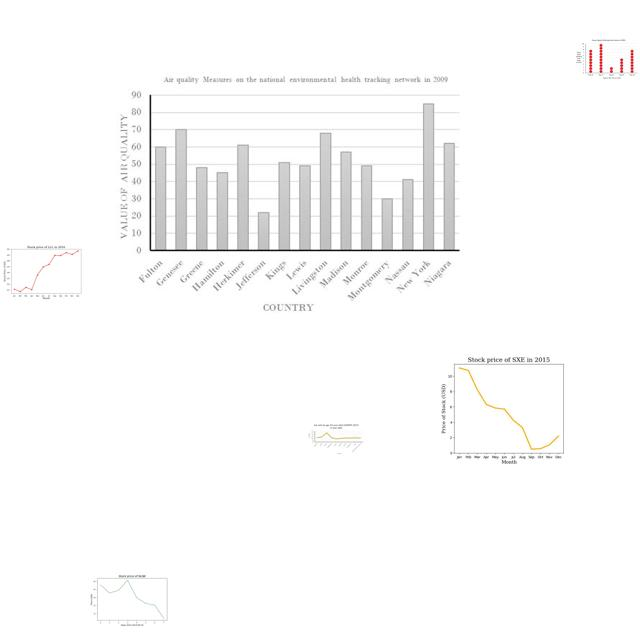Graph: (110, 72, 466, 318), (430, 350, 584, 466), (86, 568, 176, 630), (0, 240, 90, 302), (575, 38, 638, 80), (308, 423, 364, 455)
